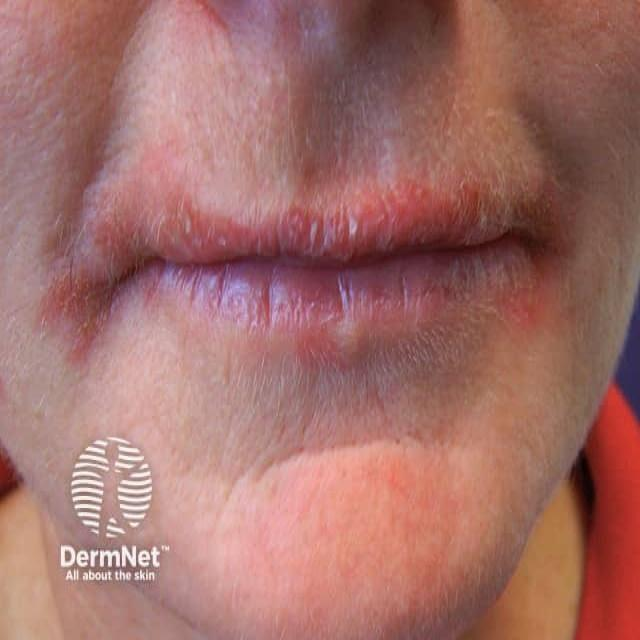Eczema: (43, 149, 551, 377)
